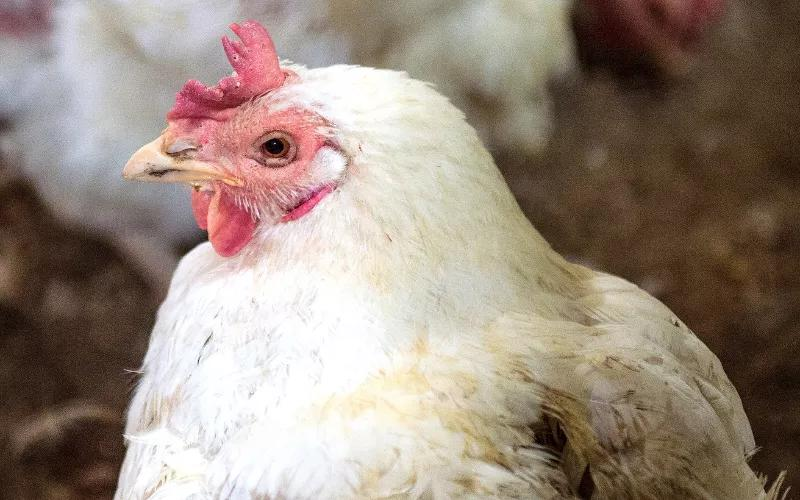AbNormal: (164, 19, 279, 121)
